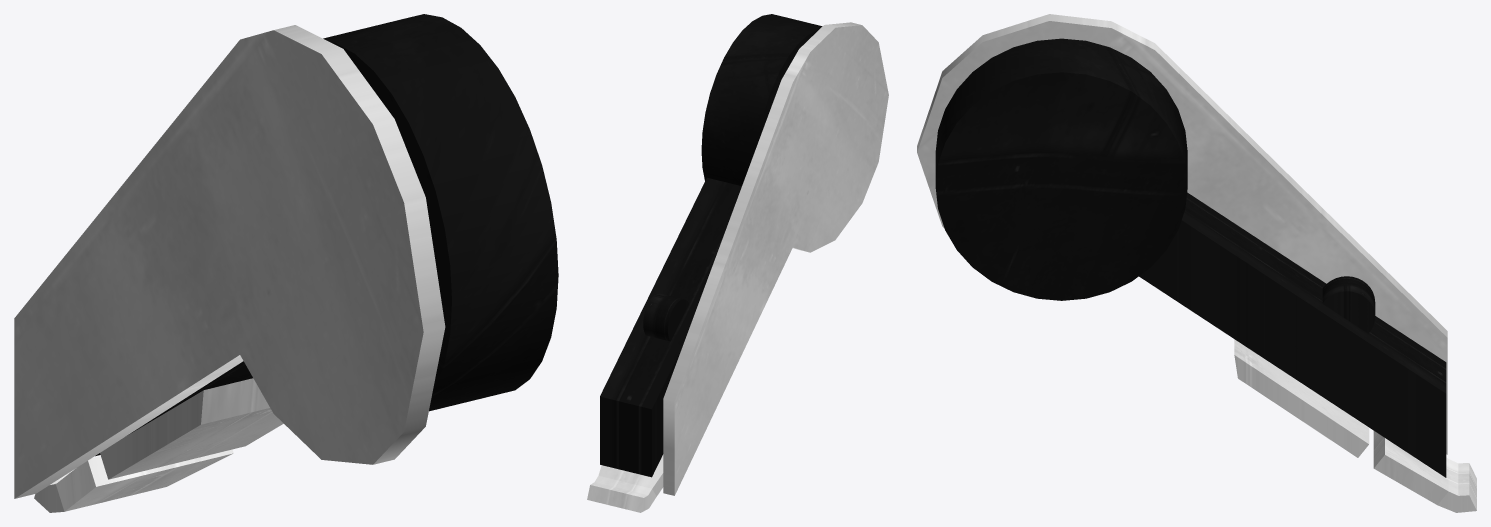
The model's file is left_upper_leg.obj.
3 renders of one model, left to right at view 1: azimuth 30°, elevation 25°; view 2: azimuth 150°, elevation 25°; view 3: azimuth 270°, elevation 25°, orthographic. The views are drawn at different scales.
Visible parts, largest first — view 1: Cube.003, Cylinder.109, Cube.022, Cube.021, Cube.001; view 2: Cube.003, Cube.001, Cylinder.109, Cube.021, Cylinder.113; view 3: Cylinder.109, Cube.001, Cube.003, Cube.022, Cube.021, Cylinder.113.
Boxes of the visible parts, x1,y1,x2,y2 form: Cube.003: [14, 25, 445, 498]; Cylinder.109: [323, 14, 558, 411]; Cube.022: [100, 378, 283, 479]; Cube.021: [34, 449, 233, 512]; Cube.001: [95, 361, 252, 456]; Cube.003: [663, 22, 888, 495]; Cube.001: [600, 177, 741, 477]; Cylinder.109: [701, 14, 822, 185]; Cube.021: [587, 454, 663, 512]; Cylinder.113: [643, 293, 688, 341]; Cylinder.109: [935, 38, 1187, 300]; Cube.001: [1139, 192, 1446, 477]; Cube.003: [917, 14, 1447, 454]; Cube.022: [1234, 339, 1369, 457]; Cube.021: [1373, 431, 1476, 512]; Cylinder.113: [1322, 276, 1375, 333].
Bounding box in the file's own units: 0.1497 × 0.6158 × 0.6896.
